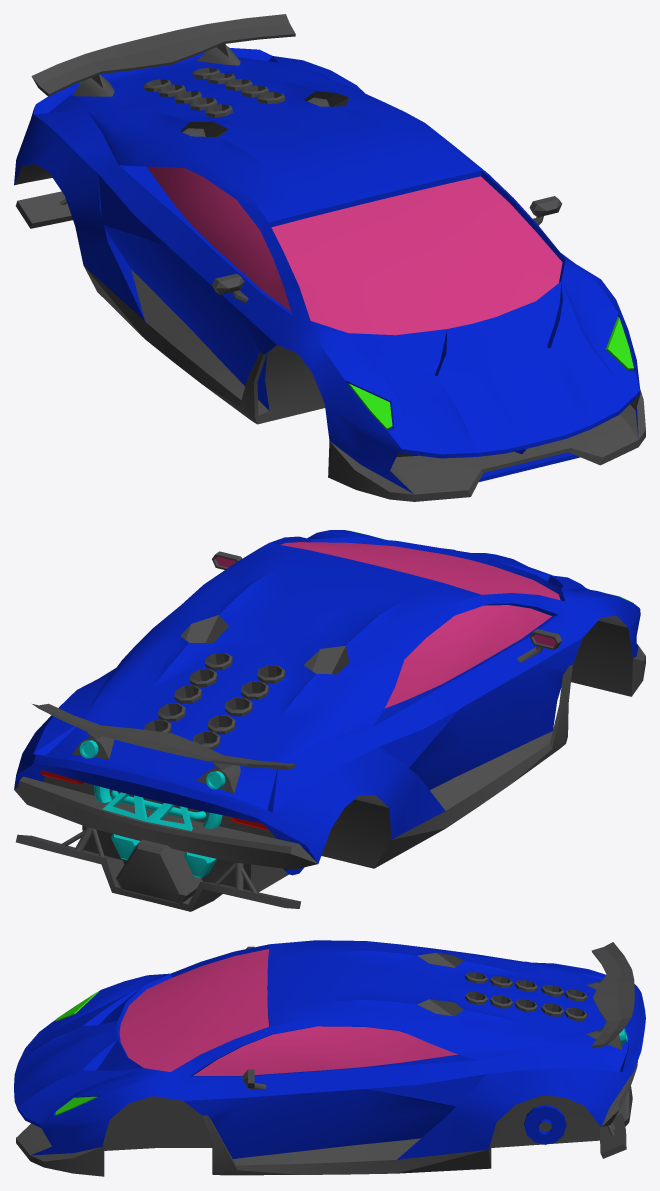
3 views of the same model, one above another, from view 1: azimuth 30°, elevation 25°; view 2: azimuth 150°, elevation 25°; view 3: azimuth 270°, elevation 25° (orthographic). The views are drawn at different scales.
Visible parts, largest first — view 1: C41; view 2: C41; view 3: C41.
Boxes of the visible parts, box(x1,y1,x2,y2) form: C41: box(14, 14, 645, 501); C41: box(14, 530, 645, 911); C41: box(14, 940, 645, 1176).
Bounding box in the file's own units: 90.17 × 45.44 × 180.
